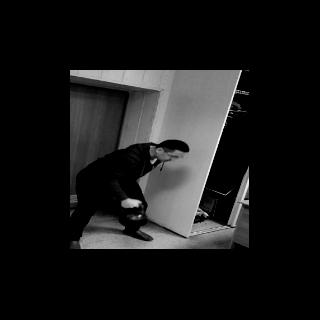kettlebell: (119, 204, 148, 227)
